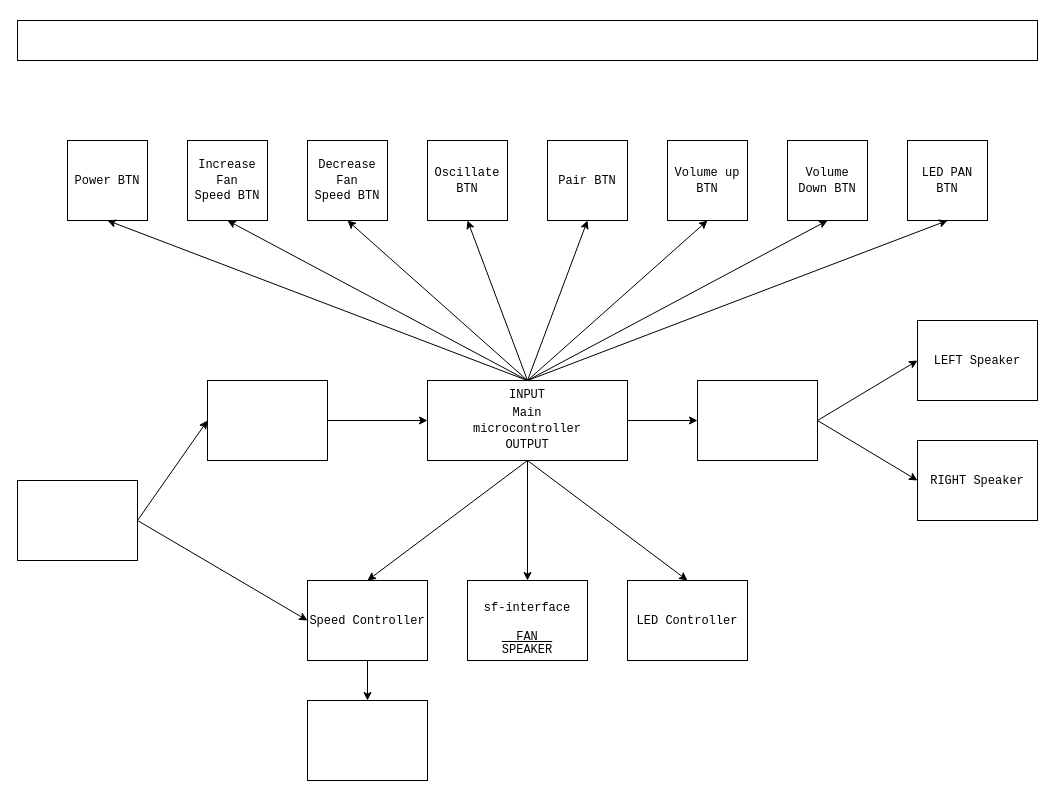
Some shapes in this 1055 by 798 pixel diagram are drawn without their labels. Each missing label, with the centre of its shape:
Buck Converter 5V DC: pixel 267 420
Class D Amplifier: pixel 757 420
Fan Controller: pixel 367 740
Power supply 120V AC - 12V DC: pixel 77 520
speakr-fan: pixel 527 40
